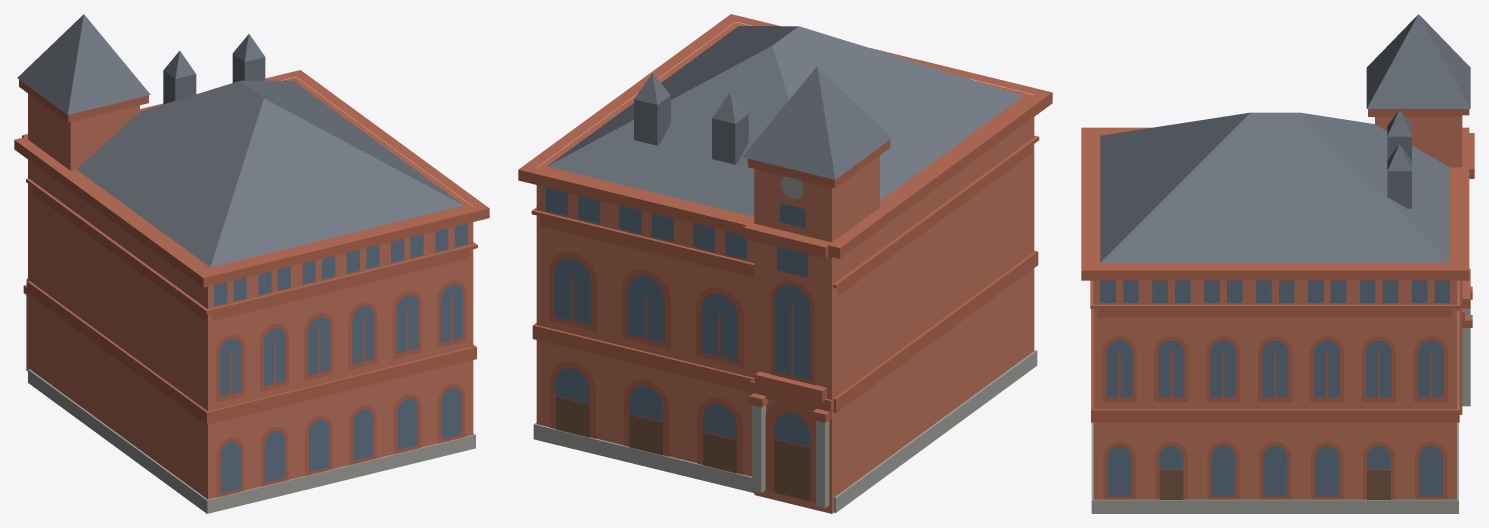
File: nyc-center-for-brooklyn-history.glb
3 renders of one model, left to right at view 1: azimuth 30°, elevation 25°; view 2: azimuth 150°, elevation 25°; view 3: azimuth 270°, elevation 25°, orthographic. The views are drawn at different scales.
Visible parts, largest first — view 1: Center for Brooklyn History; view 2: Center for Brooklyn History; view 3: Center for Brooklyn History.
Boxes of the visible parts, x1,y1,x2,y2 form: Center for Brooklyn History: (14,14,489,513); Center for Brooklyn History: (518,14,1052,513); Center for Brooklyn History: (1081,14,1474,513).
Size of the model in its own units: 24.8 by 31 by 28.8.
